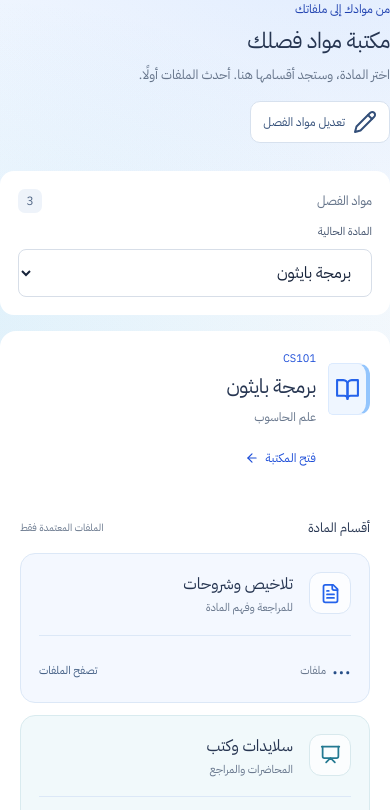
Test: semester library workspace › fetches only the selected subject and uses the same selection for desktop and mobile
Later steps or results of the test are not shown.
Select "شبكات الحاسوب" in the dropdown labelled "المادة الحالية" at {"x": 195, "y": 273}, box [18,249,372,297]
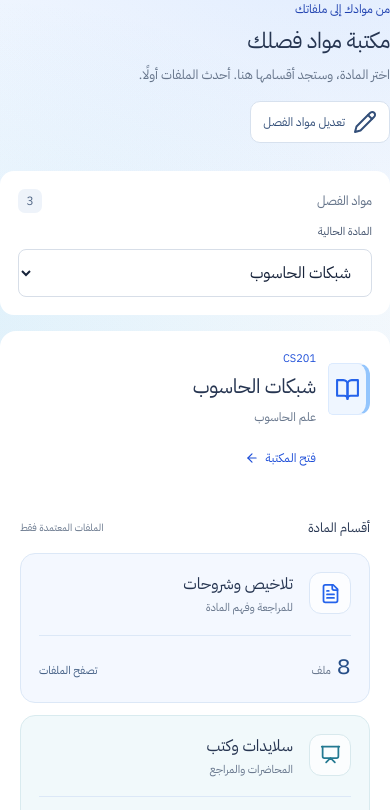
Result: the link "تلاخيص وشروحات للمراجعة وفهم المادة 8 ملف تصفح الملفات" has attribute href="/subject/networks?tab=summaries" at [20,553,370,703]
